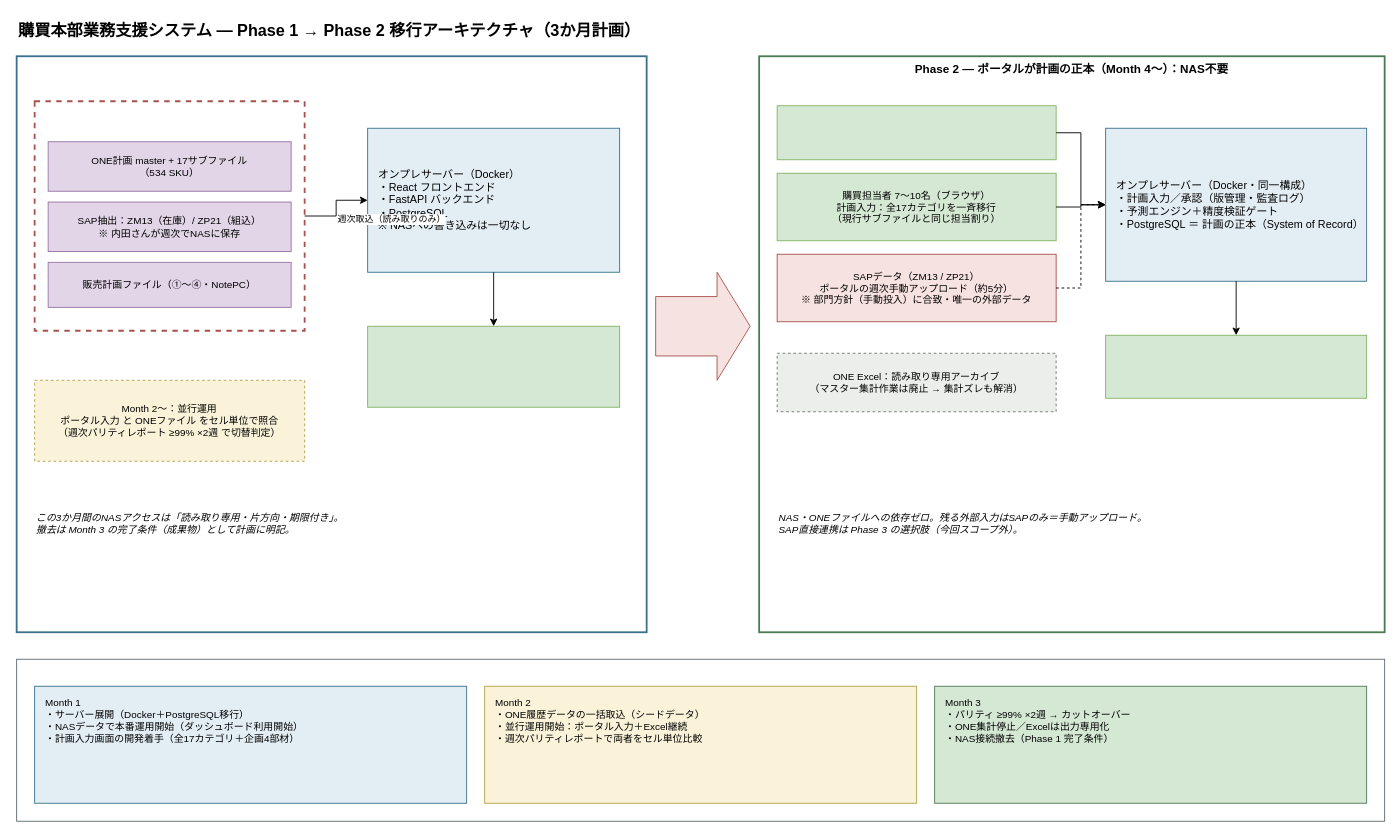
This 1400x837 diagram has some shape labels left out. The shapes that lost their labels are listed below. From the top down, each one's box as (x1, y1, x2, y2) in pixels, then its label:
(776, 105, 1056, 160): 経営企画部（ブラウザ） 計画入力：CPU・MB・VGA・ケース
(33, 100, 305, 331): NAS（読み取り専用・暫定） ※ Month 3 末に接続撤去
(15, 55, 647, 633): Phase 1 — ブリッジ運用（Month 1〜3）：現行構成のまま、NASは読み取りのみ
(655, 271, 750, 380): Month 3 カットオーバー パリティ達成 → NAS接続撤去
(367, 325, 620, 407): 購買本部ユーザー（7〜10名） ダッシュボード利用は Month 1 から開始 （予測・発注提案・互換チェック）
(1105, 334, 1367, 398): ダッシュボード ＋ Excel出力 （Excelは「入力」から「出力専用」へ）
(16, 658, 1385, 821): 3か月タイムライン
